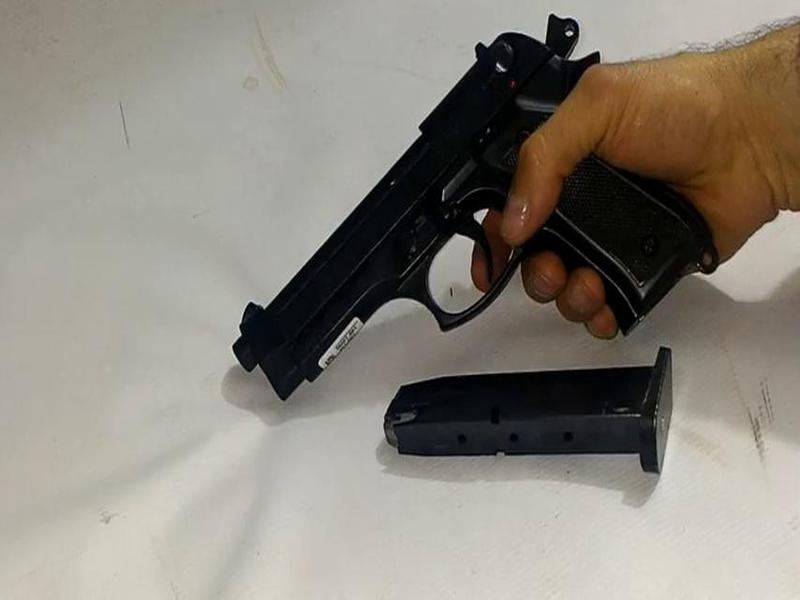Pistola: (227, 4, 730, 402)
